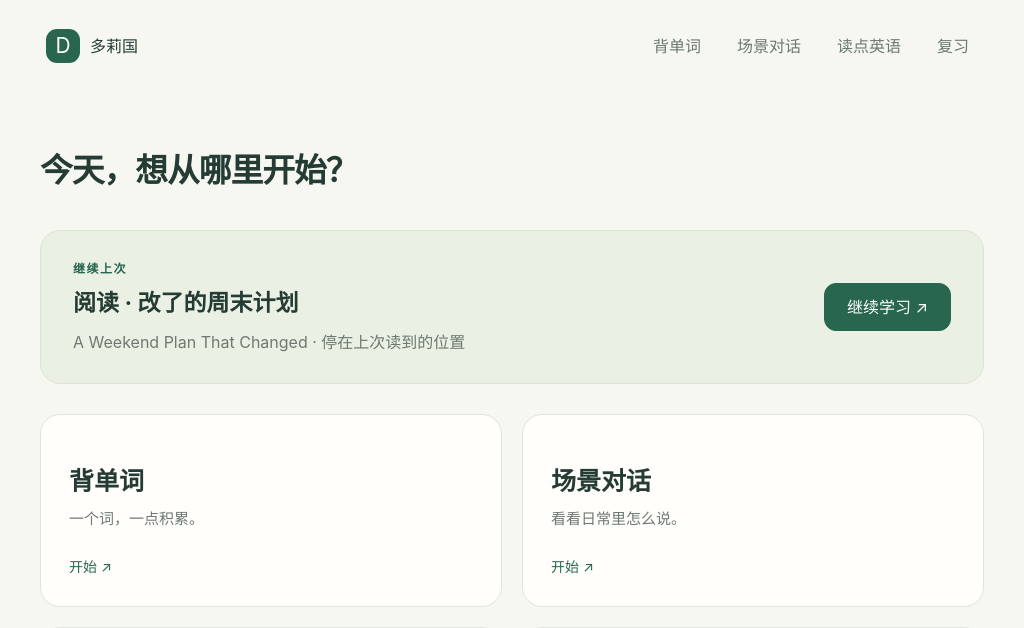
it: opens extension reading reading-weekend-plans-change from home resume
Click the button "继续学习 ↗": (888, 307) [824,283,951,332]
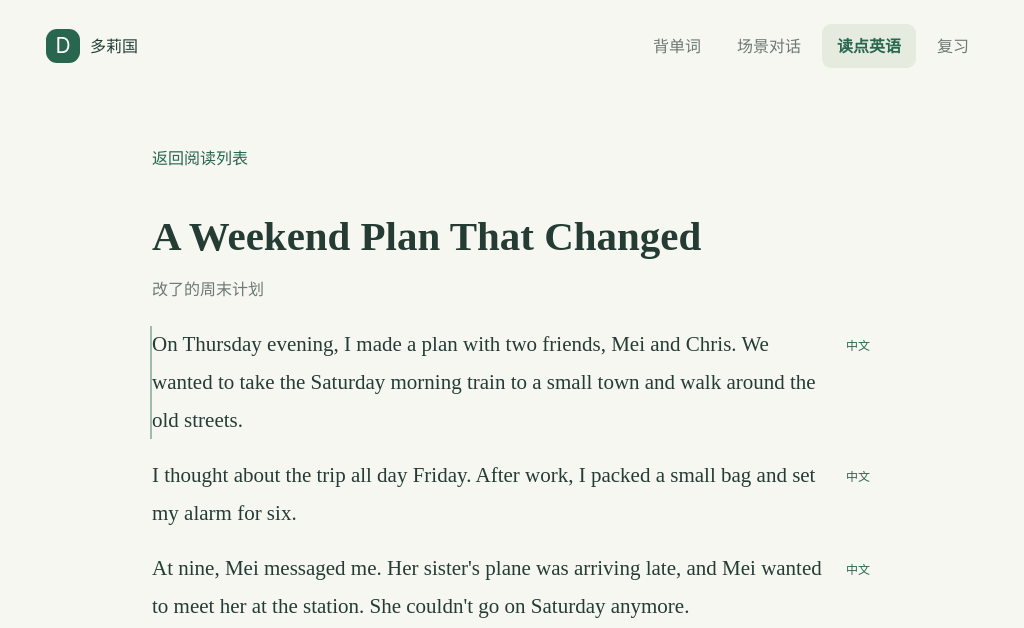
Result: the heading "A Weekend Plan That Changed" is shown at [152,213,701,259]
